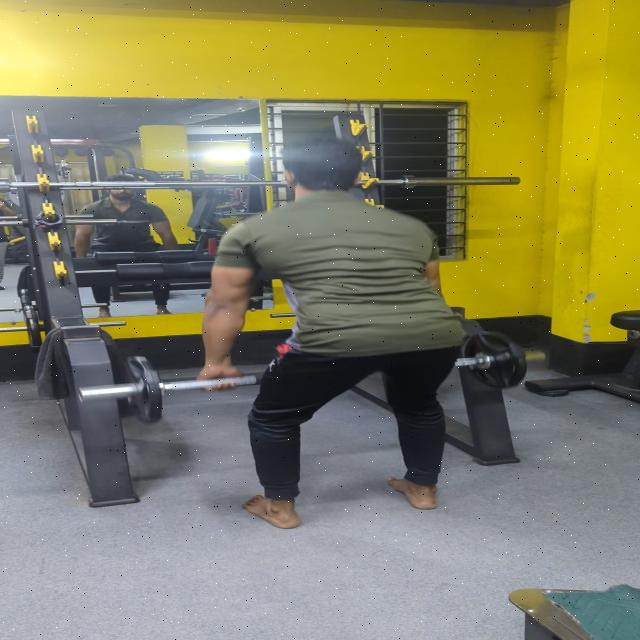Normal_Deadlifts: (136, 111, 559, 575)
